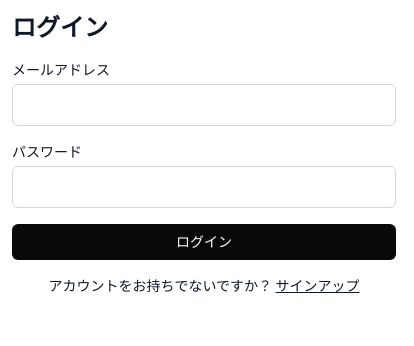
Test: LoginForm › displays error message on login failure
The width and height of the screenshot is (414, 346).
Type "test@example.com" into the field labelled "メールアドレス" at {"x": 204, "y": 105}, box [12, 84, 396, 126]
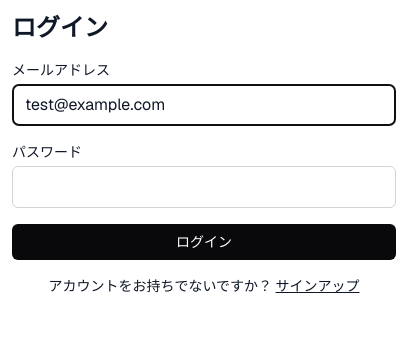
Type "wrongpass" into the password field labelled "パスワード" at {"x": 204, "y": 187}, box [12, 166, 396, 208]
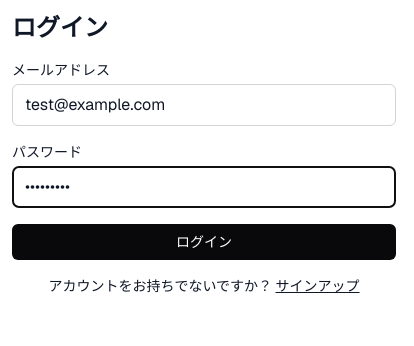
Click the button "ログイン" at {"x": 204, "y": 242}, box [12, 224, 396, 260]
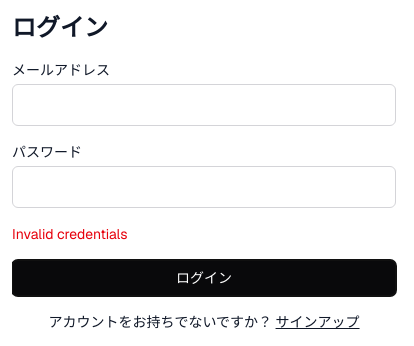
Check: the text "Invalid credentials" is shown, box [12, 225, 128, 243]
